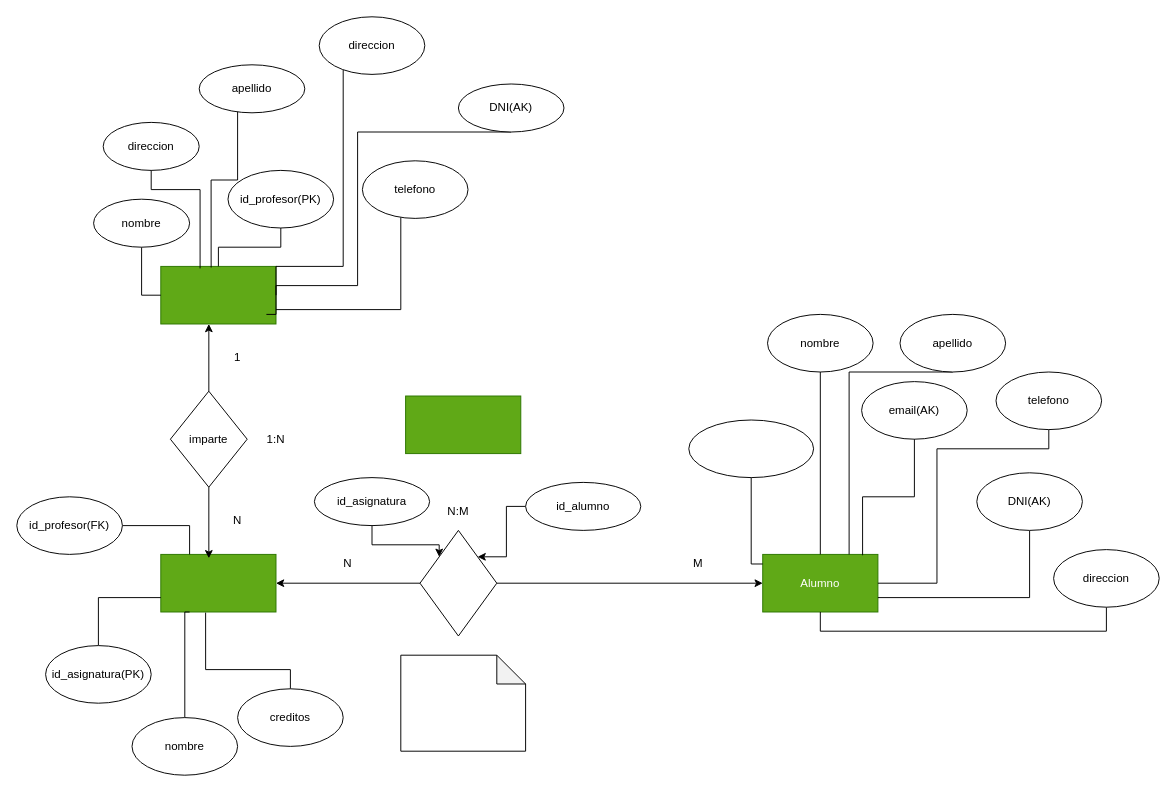
Image size: 1176x792. Some labels were removed from this diagram. Here are the shapes that lost their labels. From the top down, the centre of each, then its label:
[218,294]: Profesor
[463,424]: Matricula
[751,448]: id_alumno(PK)
[218,582]: Asignatura
[458,582]: se matricula
[463,702]: se va a convertir en una tabla intermedia (matricula)
